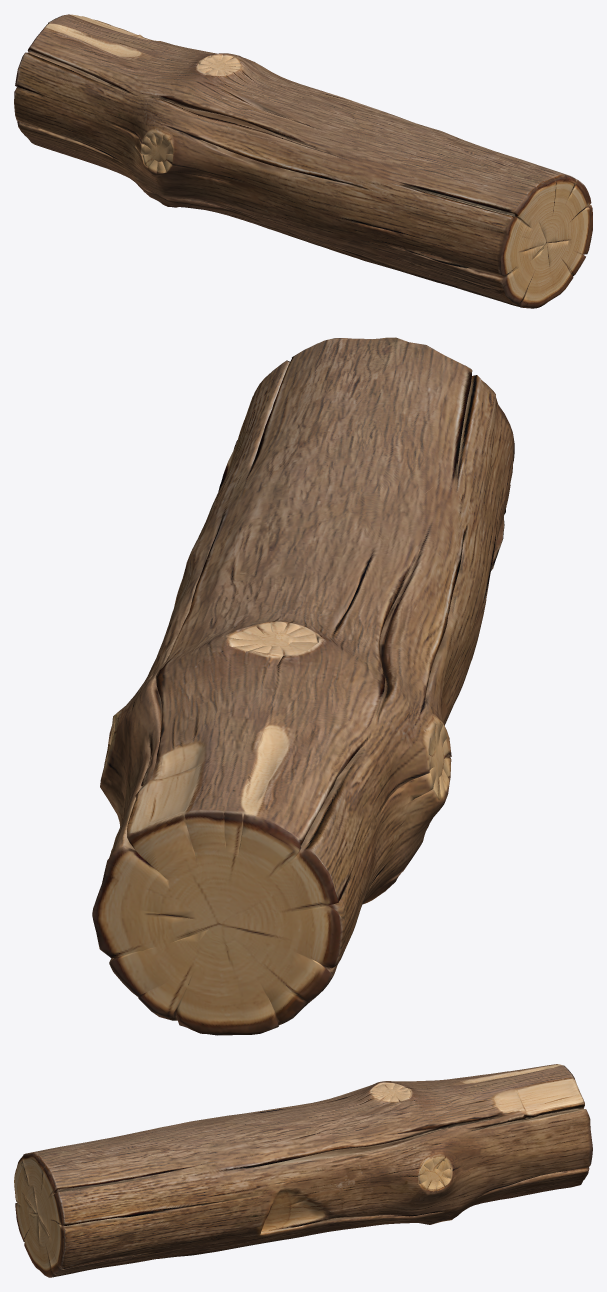
3 views of the same model, one above another, from view 1: azimuth 30°, elevation 25°; view 2: azimuth 150°, elevation 25°; view 3: azimuth 270°, elevation 25° (orthographic). The views are drawn at different scales.
Parts seen in each view (by area): view 1: tripo_node_b7e7a5f3-dca0-4860-bd27-be2b66d29900; view 2: tripo_node_b7e7a5f3-dca0-4860-bd27-be2b66d29900; view 3: tripo_node_b7e7a5f3-dca0-4860-bd27-be2b66d29900.
Boxes of the visible parts, x1,y1,x2,y2 form: tripo_node_b7e7a5f3-dca0-4860-bd27-be2b66d29900: (14,14,592,308); tripo_node_b7e7a5f3-dca0-4860-bd27-be2b66d29900: (92,337,514,1035); tripo_node_b7e7a5f3-dca0-4860-bd27-be2b66d29900: (14,1064,592,1277).
Bounding box in the file's own units: 0.5635 × 0.23 × 0.979.
Materials: 1 (1 with a texture image).
